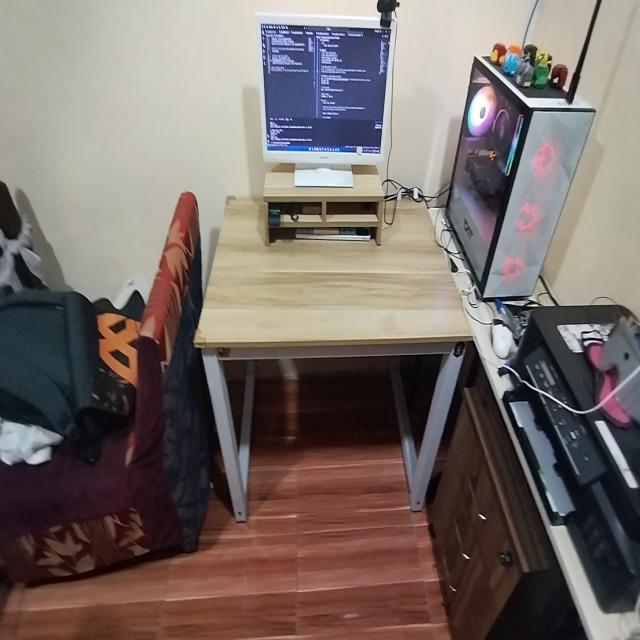table: (192, 178, 472, 515)
